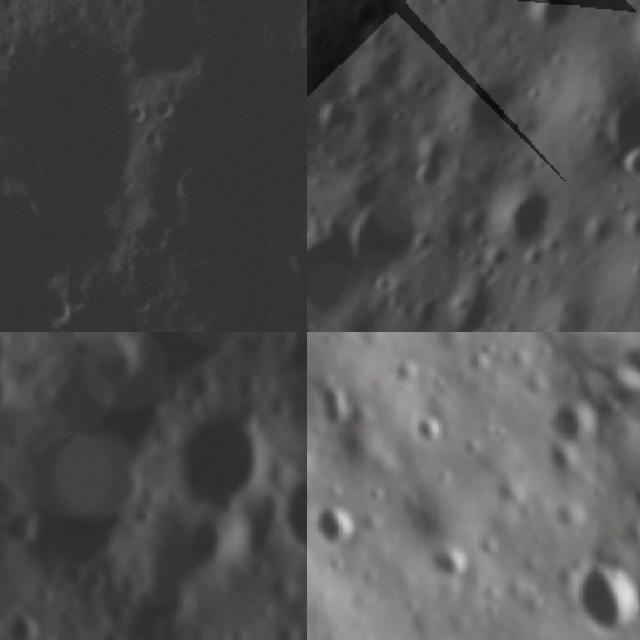crater: (103, 491, 237, 640), (158, 389, 288, 523), (552, 531, 640, 640), (240, 332, 307, 444), (338, 181, 424, 266), (528, 381, 612, 464), (486, 173, 566, 251), (307, 361, 373, 441), (264, 457, 307, 570), (307, 482, 370, 558), (418, 526, 477, 586), (0, 498, 49, 564), (410, 144, 463, 197), (0, 354, 29, 430), (0, 593, 45, 640), (519, 0, 582, 32), (443, 311, 529, 332), (619, 6, 640, 80), (615, 134, 640, 183), (196, 627, 256, 640), (307, 206, 322, 252), (307, 0, 321, 21)
